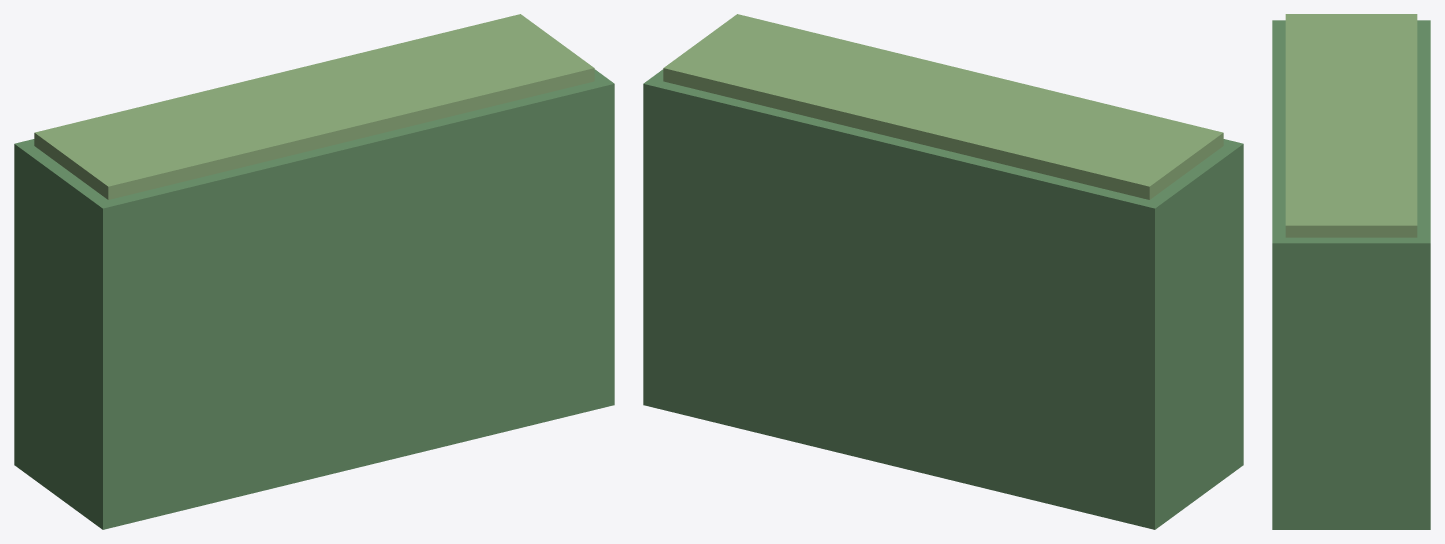
File: Cit_Cali_2m.glb
The picture shows the model from 3 angles, left to right: view 1: azimuth 30°, elevation 25°; view 2: azimuth 150°, elevation 25°; view 3: azimuth 270°, elevation 25°; orthographic projection. The views are drawn at different scales.
Visible parts, largest first — view 1: Cit_Cali_2m; view 2: Cit_Cali_2m; view 3: Cit_Cali_2m.
Boxes of the visible parts, bbox=[...] form: Cit_Cali_2m: bbox=[14, 14, 614, 529]; Cit_Cali_2m: bbox=[643, 14, 1243, 529]; Cit_Cali_2m: bbox=[1272, 14, 1430, 529].
Bounding box in the file's own units: 2 × 1.25 × 0.6.
